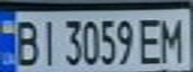0: (78, 16, 100, 66)
3: (60, 15, 84, 67)
5: (100, 16, 118, 66)
9: (115, 16, 139, 66)
B: (9, 16, 42, 68)
E: (136, 15, 166, 65)
I: (36, 15, 60, 67)
M: (157, 13, 190, 64)
